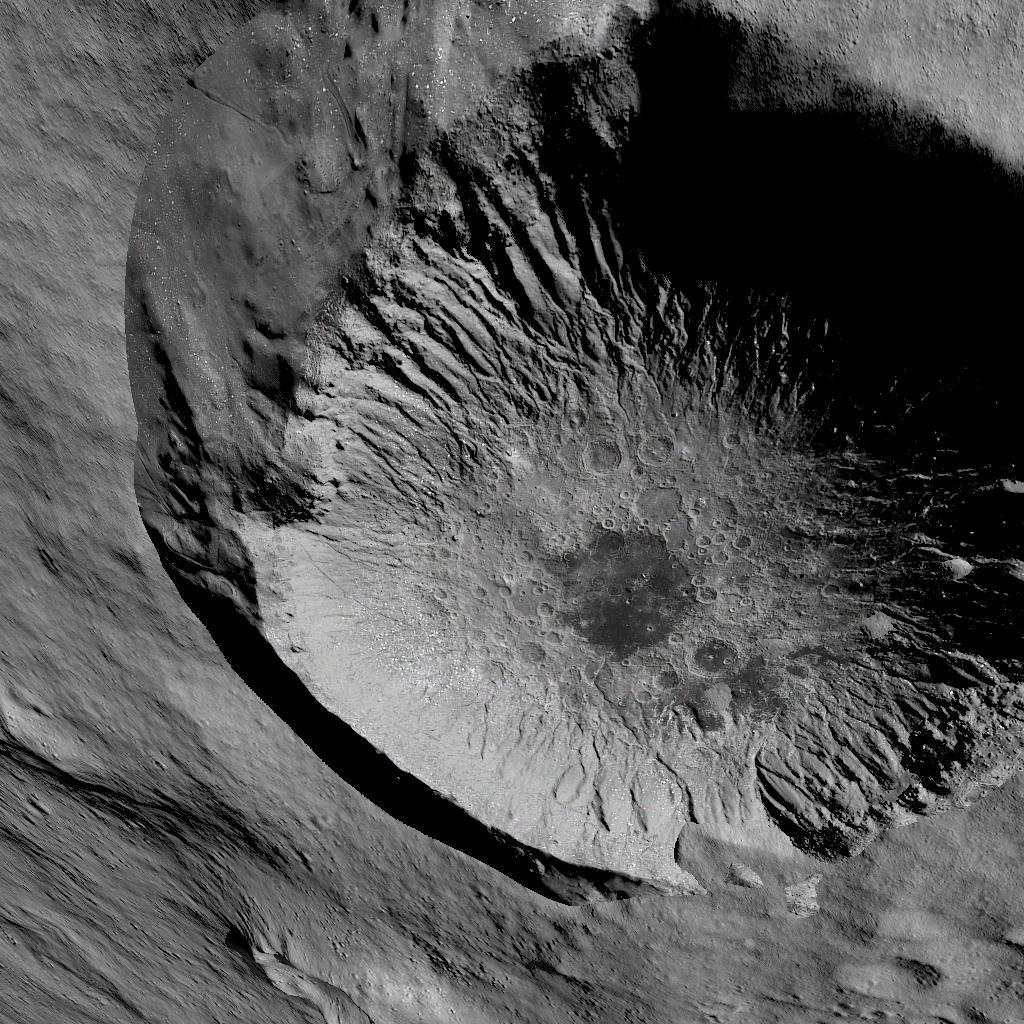Crater: (115, 0, 1024, 914)
